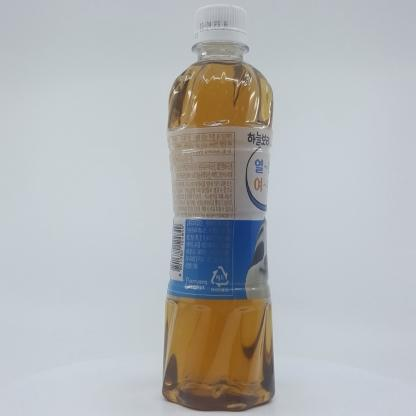------500ML: (161, 4, 276, 411)
